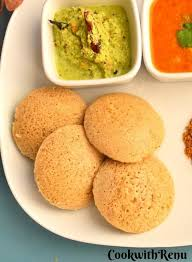chutney: (55, 10, 125, 71)
idli: (94, 152, 176, 235), (36, 124, 112, 213), (14, 86, 93, 165), (83, 90, 163, 162)
